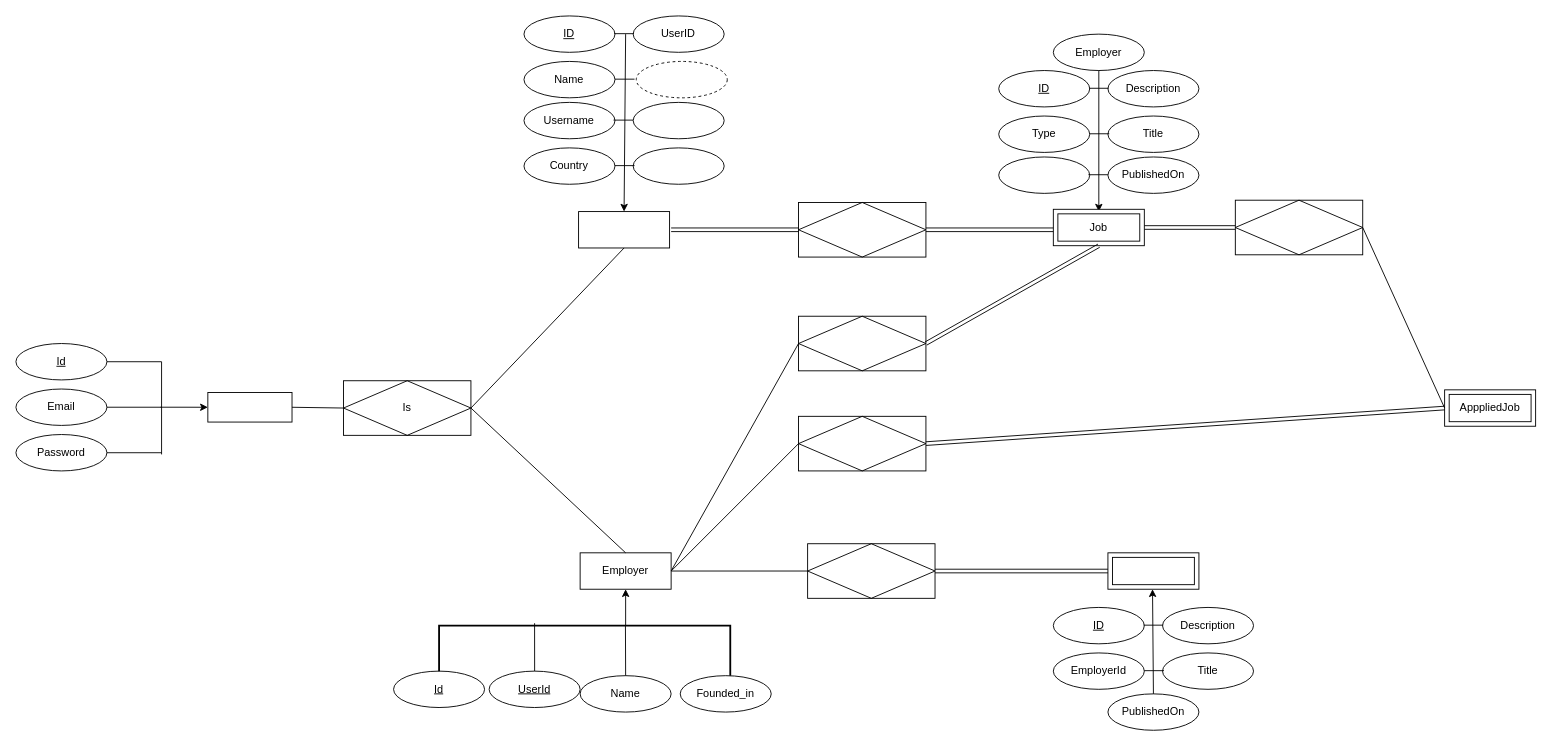
The diagram is 1552 pixels wide and 746 high, and some of its shapes have lost their labels. Each missing label, with the centre of its shape:
Age: [681,79]
Apply: [862,229]
Article: [1153,570]
Biography: [678,120]
Category_ID: [1044,174]
Client: [624,229]
Gender: [678,165]
Manage /approve disapprove/: [862,443]
Manage /create, update, delete/: [862,343]
Publish: [871,570]
References: [1298,227]
User: [249,407]
